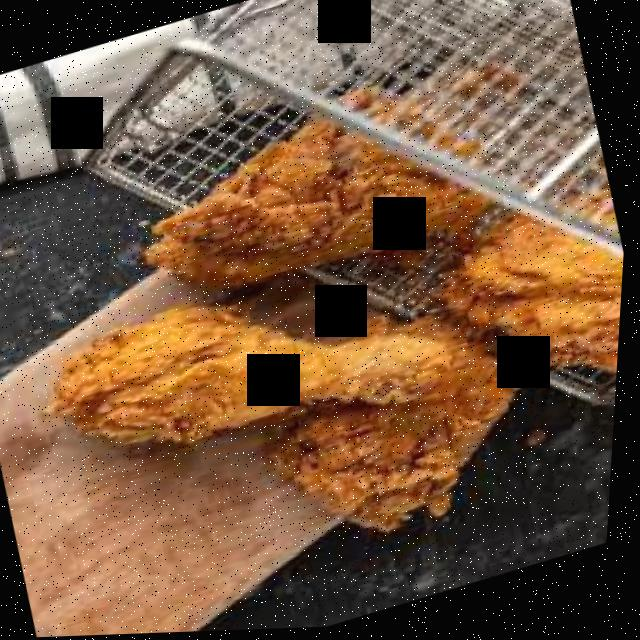Frango: (0, 27, 638, 636)
